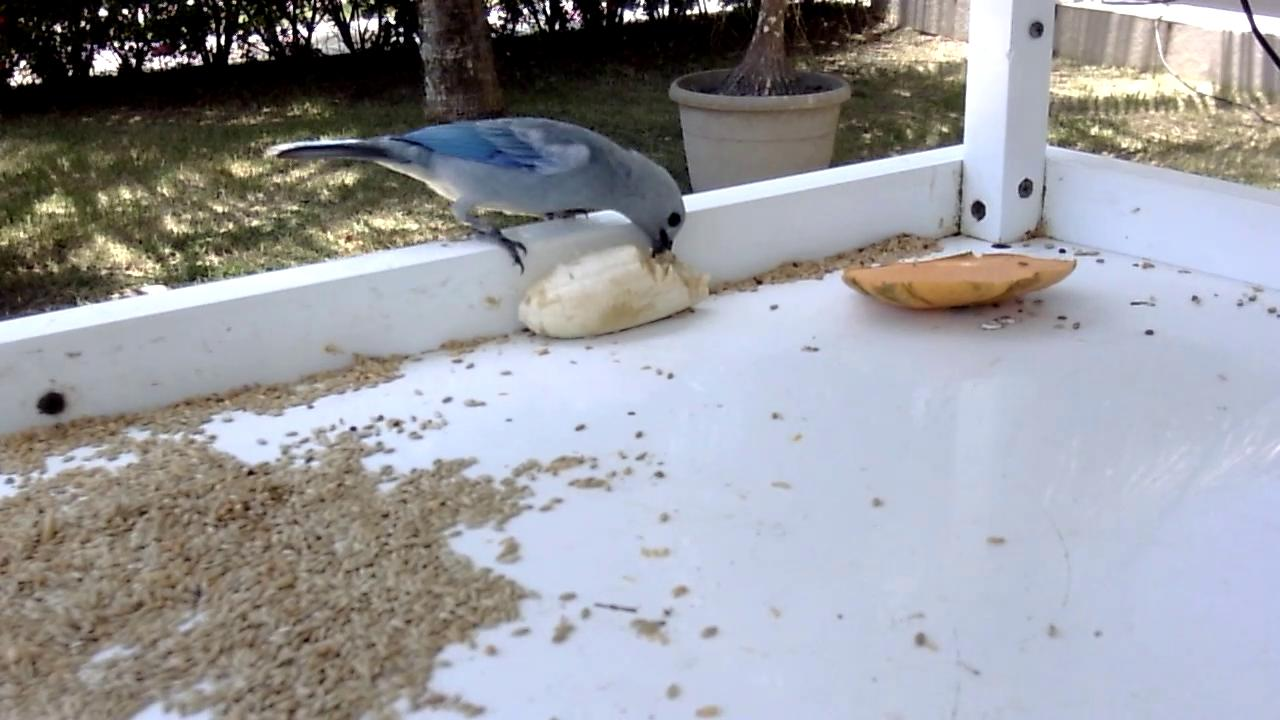sanhaco_da_amazonia: (274, 114, 688, 275)
